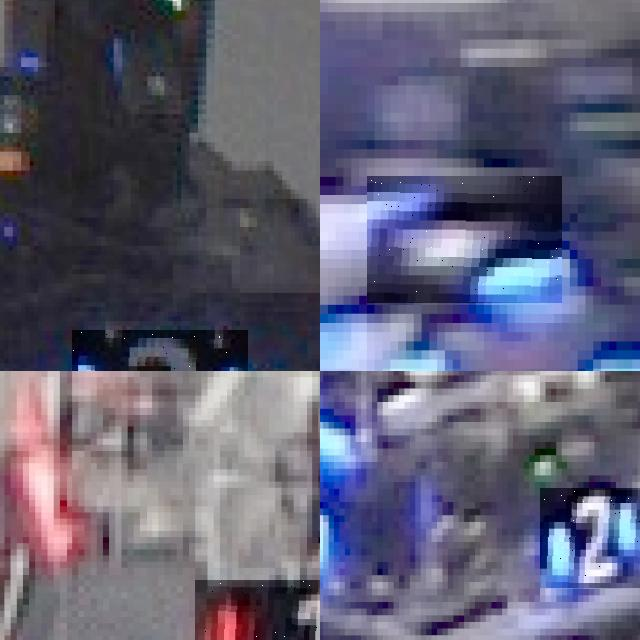B2: (540, 488, 640, 588), (71, 330, 248, 371)
B4: (367, 176, 562, 304), (320, 304, 437, 371)
R1: (195, 580, 320, 640)
